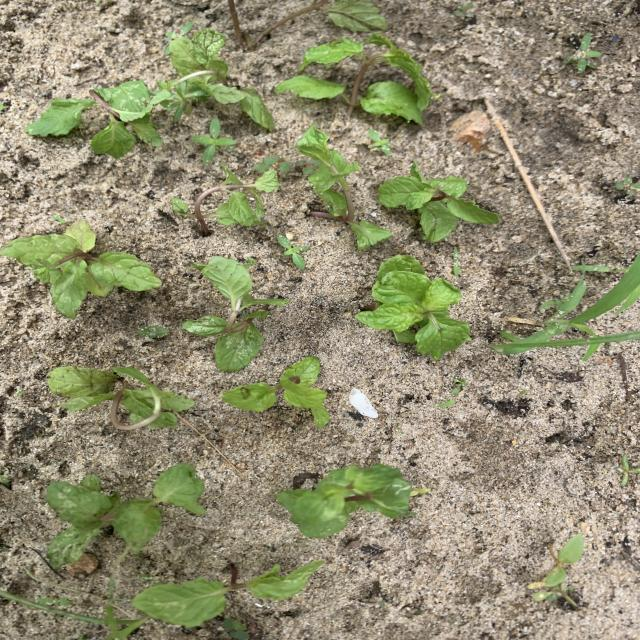crop: (47, 466, 203, 567), (0, 221, 160, 316), (277, 35, 438, 122), (183, 257, 288, 370), (356, 257, 471, 359), (133, 564, 320, 626), (305, 125, 391, 249), (27, 82, 162, 157), (170, 29, 273, 127), (277, 465, 415, 537), (379, 162, 498, 240), (48, 367, 195, 430), (222, 358, 328, 427), (172, 165, 278, 233)
weed: (492, 254, 639, 355), (0, 589, 143, 639), (152, 81, 204, 121), (546, 534, 583, 586), (191, 119, 235, 162), (566, 34, 601, 71), (279, 235, 308, 267), (532, 586, 575, 602), (617, 454, 639, 484), (614, 176, 639, 199), (223, 617, 248, 639), (255, 156, 291, 171), (370, 130, 391, 153), (166, 23, 192, 40), (138, 326, 168, 338), (455, 3, 474, 18), (453, 378, 467, 393), (438, 400, 455, 407), (53, 216, 66, 223), (1, 474, 8, 483), (247, 258, 255, 265)
